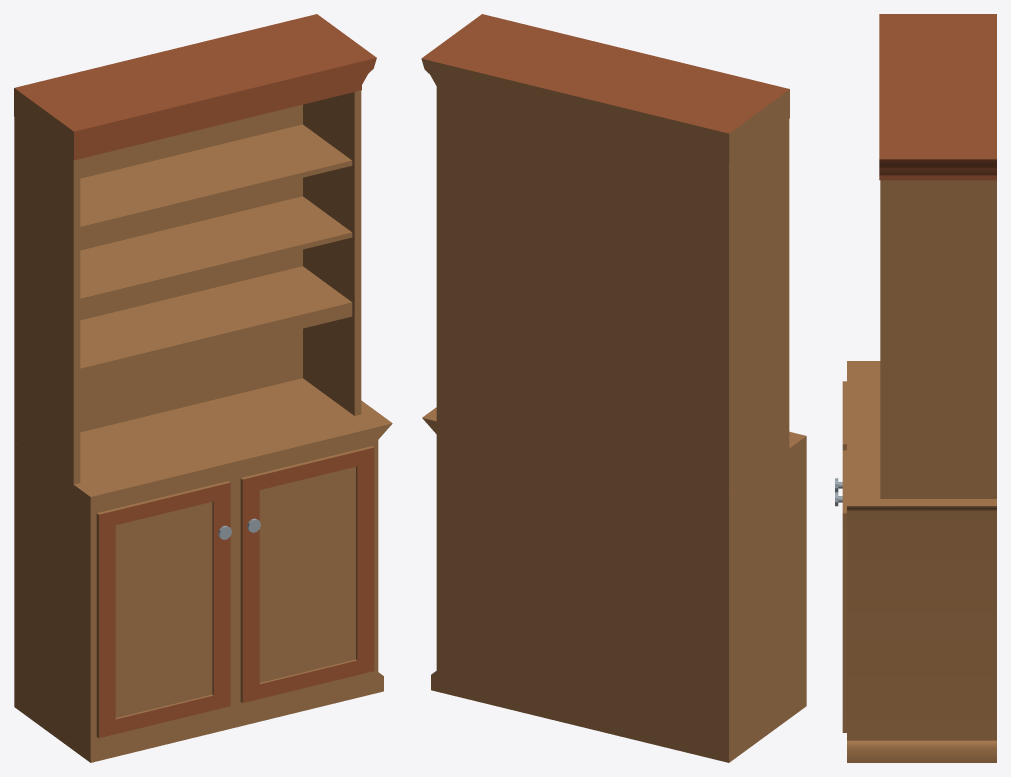
File: ShowCaseRight.fbx
3 renders of one model, left to right at view 1: azimuth 30°, elevation 25°; view 2: azimuth 150°, elevation 25°; view 3: azimuth 270°, elevation 25°, orthographic. The views are drawn at different scales.
Visible parts, largest first — view 1: ShowCaseRight; view 2: ShowCaseRight; view 3: ShowCaseRight.
Part boxes in pixels (left/top/right/bottom): ShowCaseRight: left=14, top=14, right=392, bottom=762; ShowCaseRight: left=421, top=14, right=806, bottom=762; ShowCaseRight: left=835, top=14, right=996, bottom=762.
Bounding box in the file's own units: 122 × 238 × 57.45.
